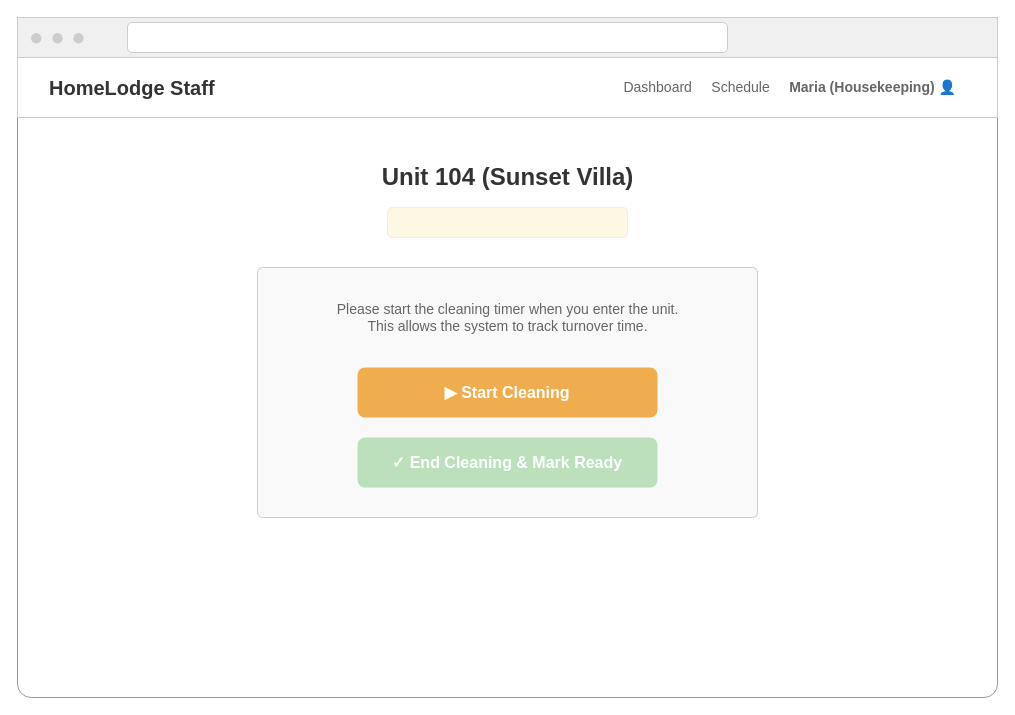
This 1015x715 diagram has some shape labels left out. Each missing label, with the box of its shape:
Status: Dirty (Guest Checked Out): (386, 206, 628, 238)
🔒 https://homelodge.example.com/staff/housekeeping/unit/104: (126, 22, 728, 52)
